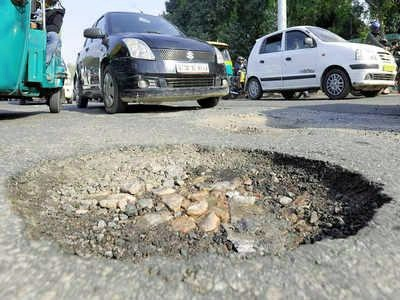pothole: (3, 140, 393, 262), (196, 110, 281, 134)
